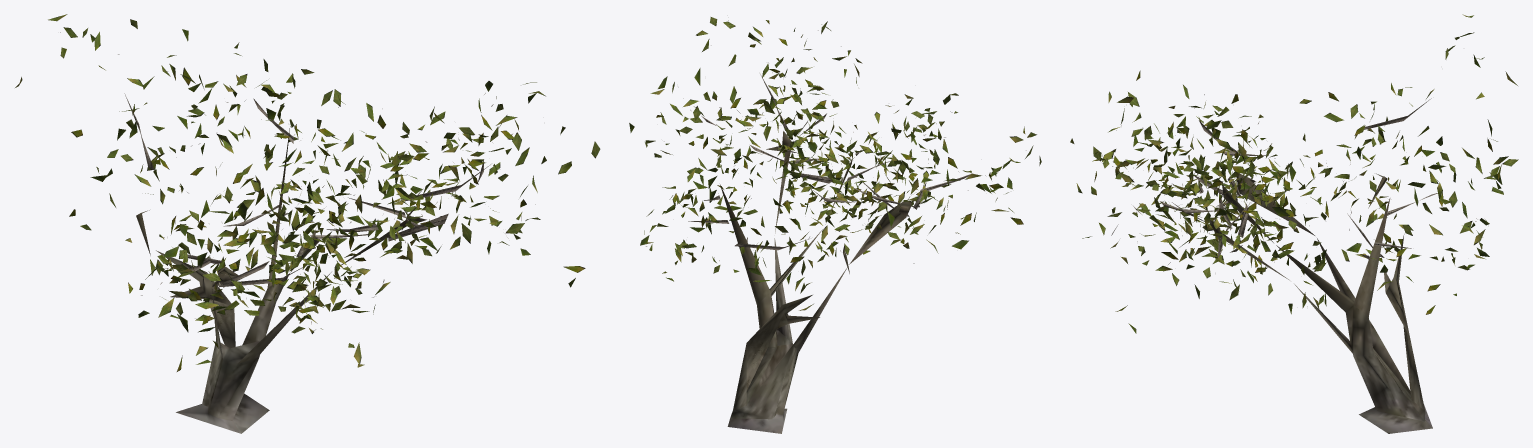
Rendered from arbre_feuillu_jeune_lod2.glb.
3 renders of one model, left to right at view 1: azimuth 30°, elevation 25°; view 2: azimuth 150°, elevation 25°; view 3: azimuth 270°, elevation 25°, orthographic. The views are drawn at different scales.
Parts seen in each view (by area): view 1: island_tree_02_LOD0; view 2: island_tree_02_LOD0; view 3: island_tree_02_LOD0.
Part boxes in pixels (bbox=[...]): island_tree_02_LOD0: bbox=[15, 14, 600, 433]; island_tree_02_LOD0: bbox=[629, 17, 1041, 433]; island_tree_02_LOD0: bbox=[1070, 14, 1518, 433].
Bounding box in the file's own units: 3.67 × 3.43 × 3.96.
Materials: 3 (3 with a texture image).
